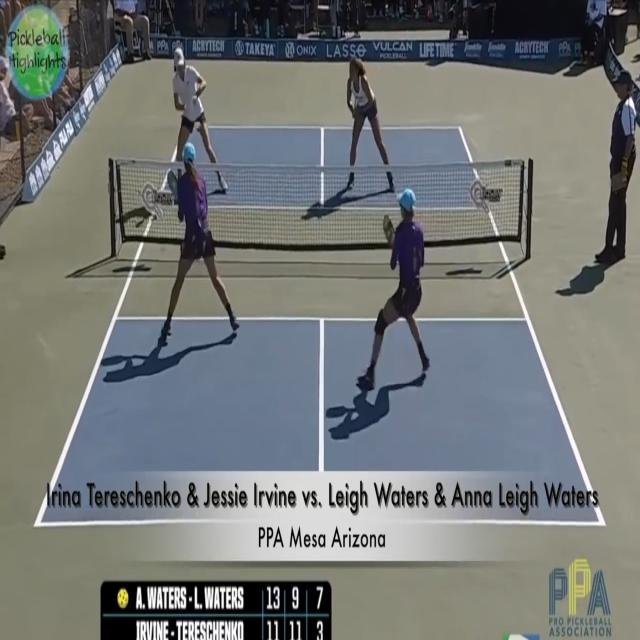Court: (38, 128, 602, 525)
